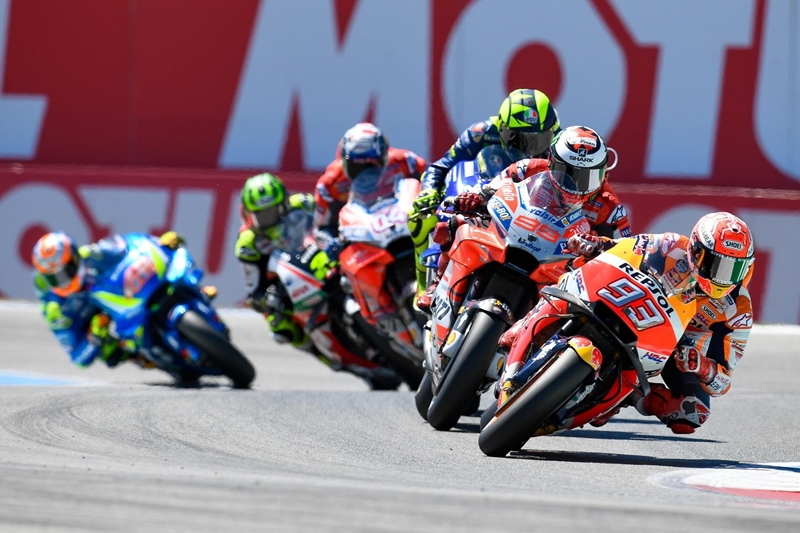helmet: (687, 195, 756, 298), (551, 116, 610, 211), (327, 114, 396, 191), (486, 76, 554, 151), (228, 164, 289, 242), (24, 229, 88, 303)
